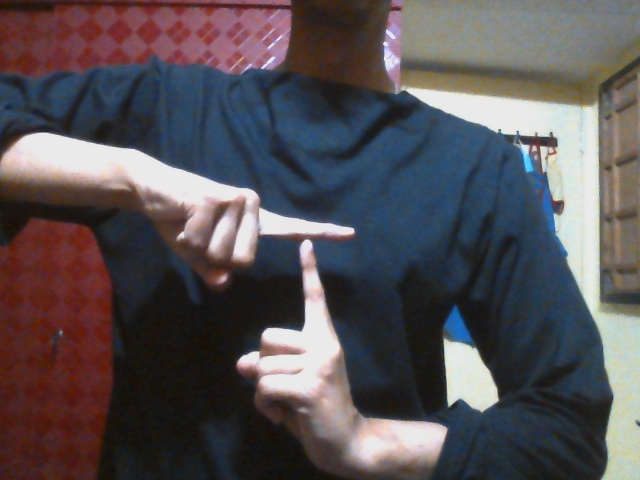T: (159, 170, 357, 455)
